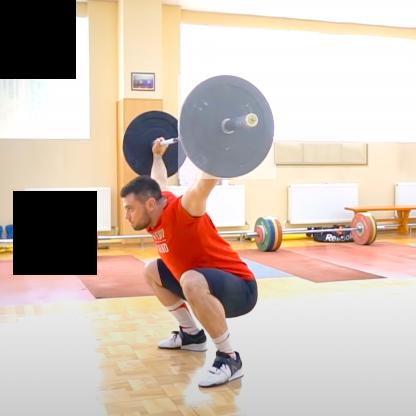barbell: (179, 77, 277, 181)
